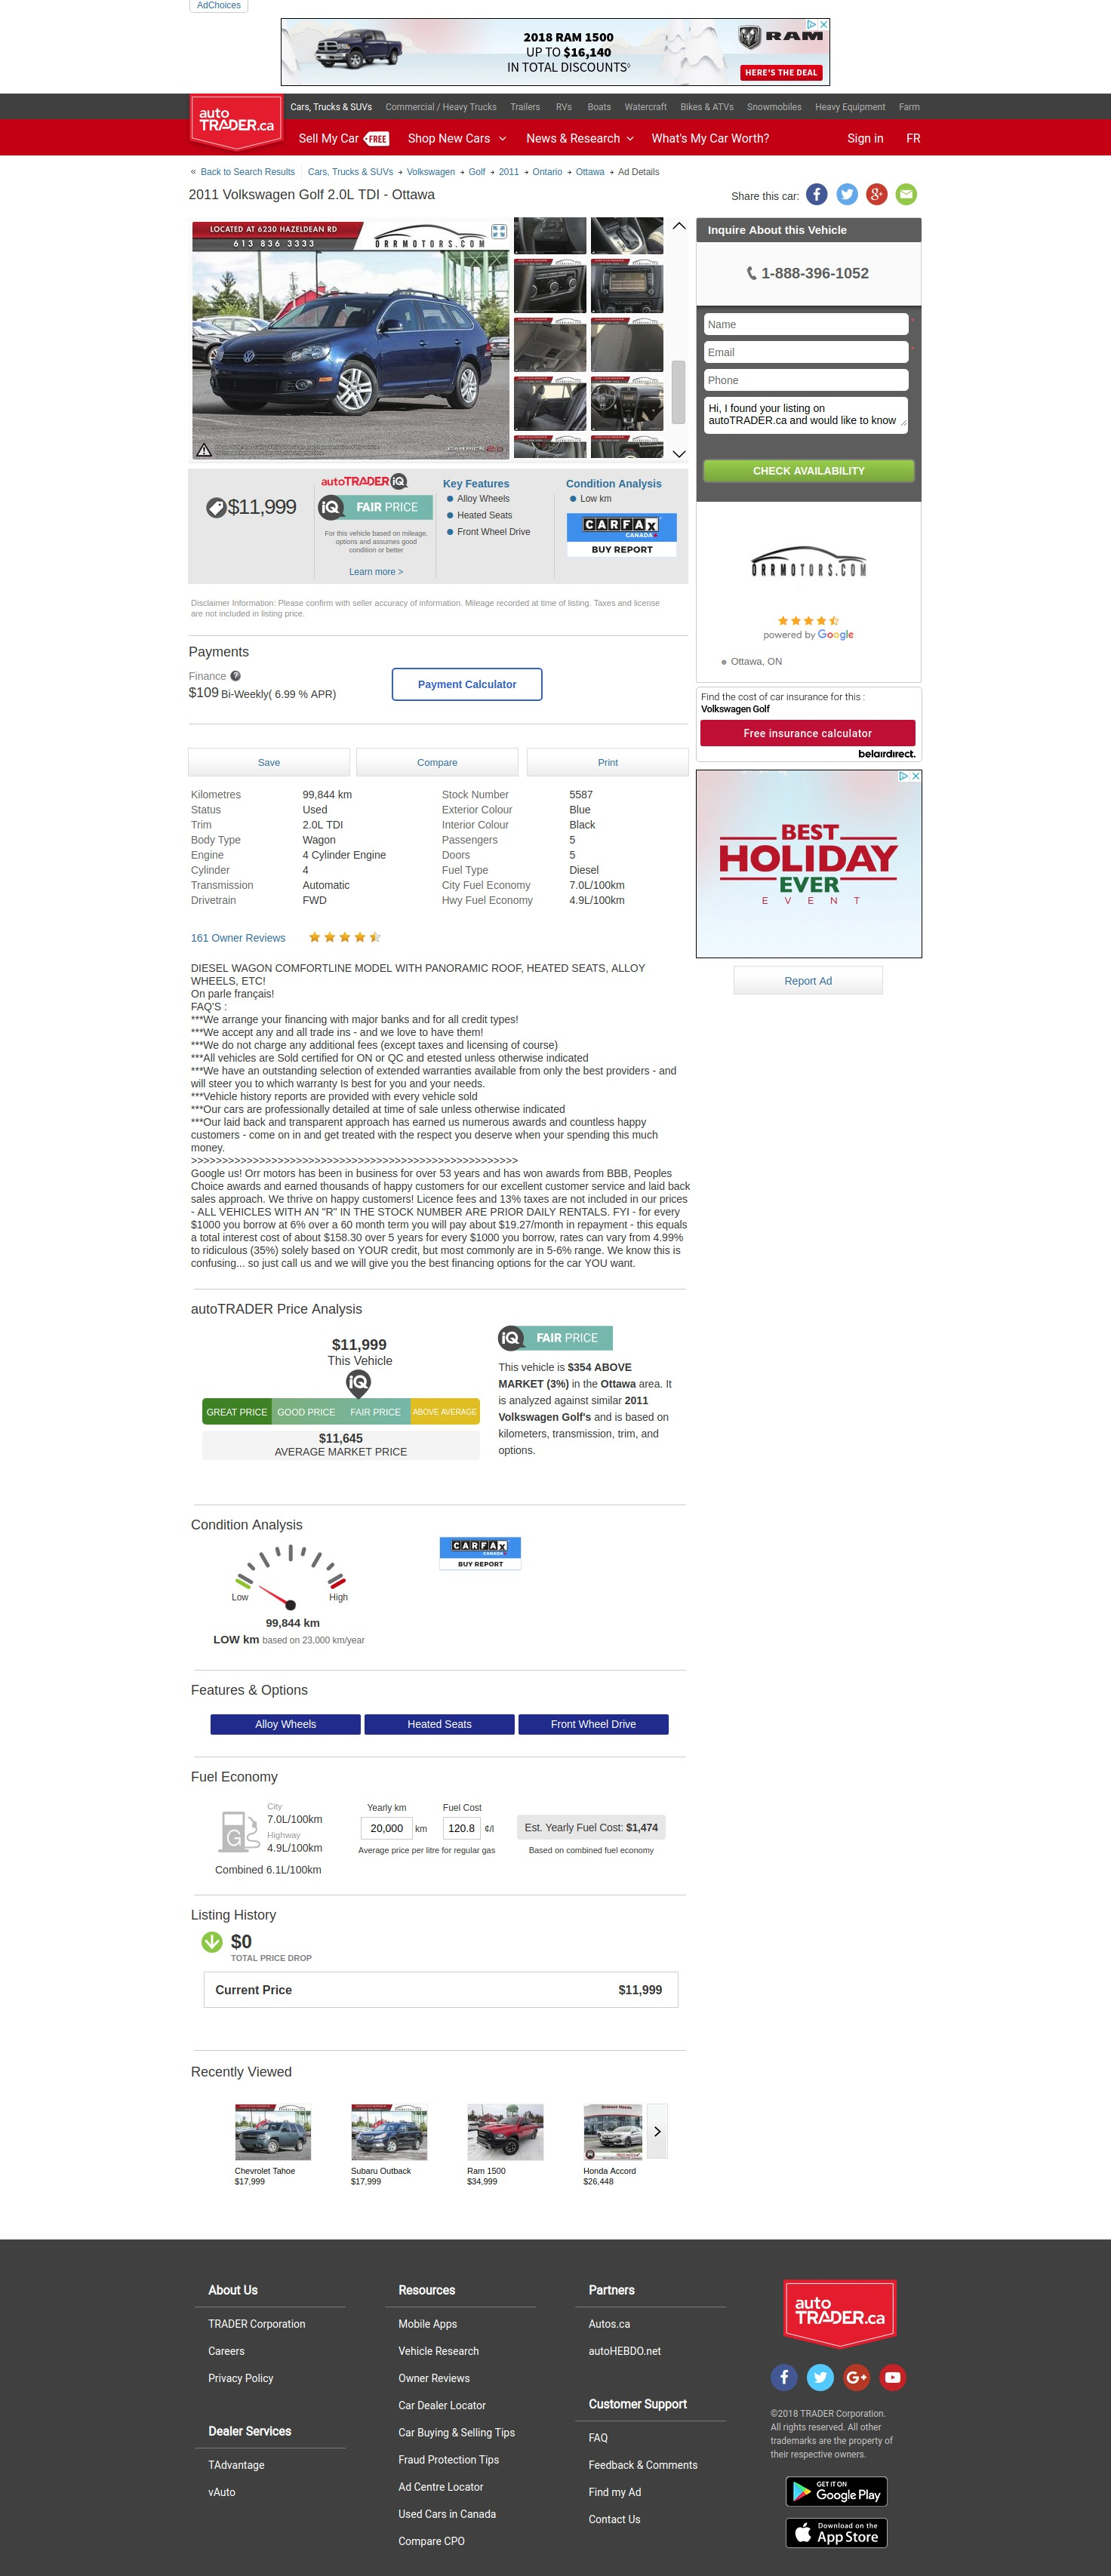car: (672, 450, 687, 460)
